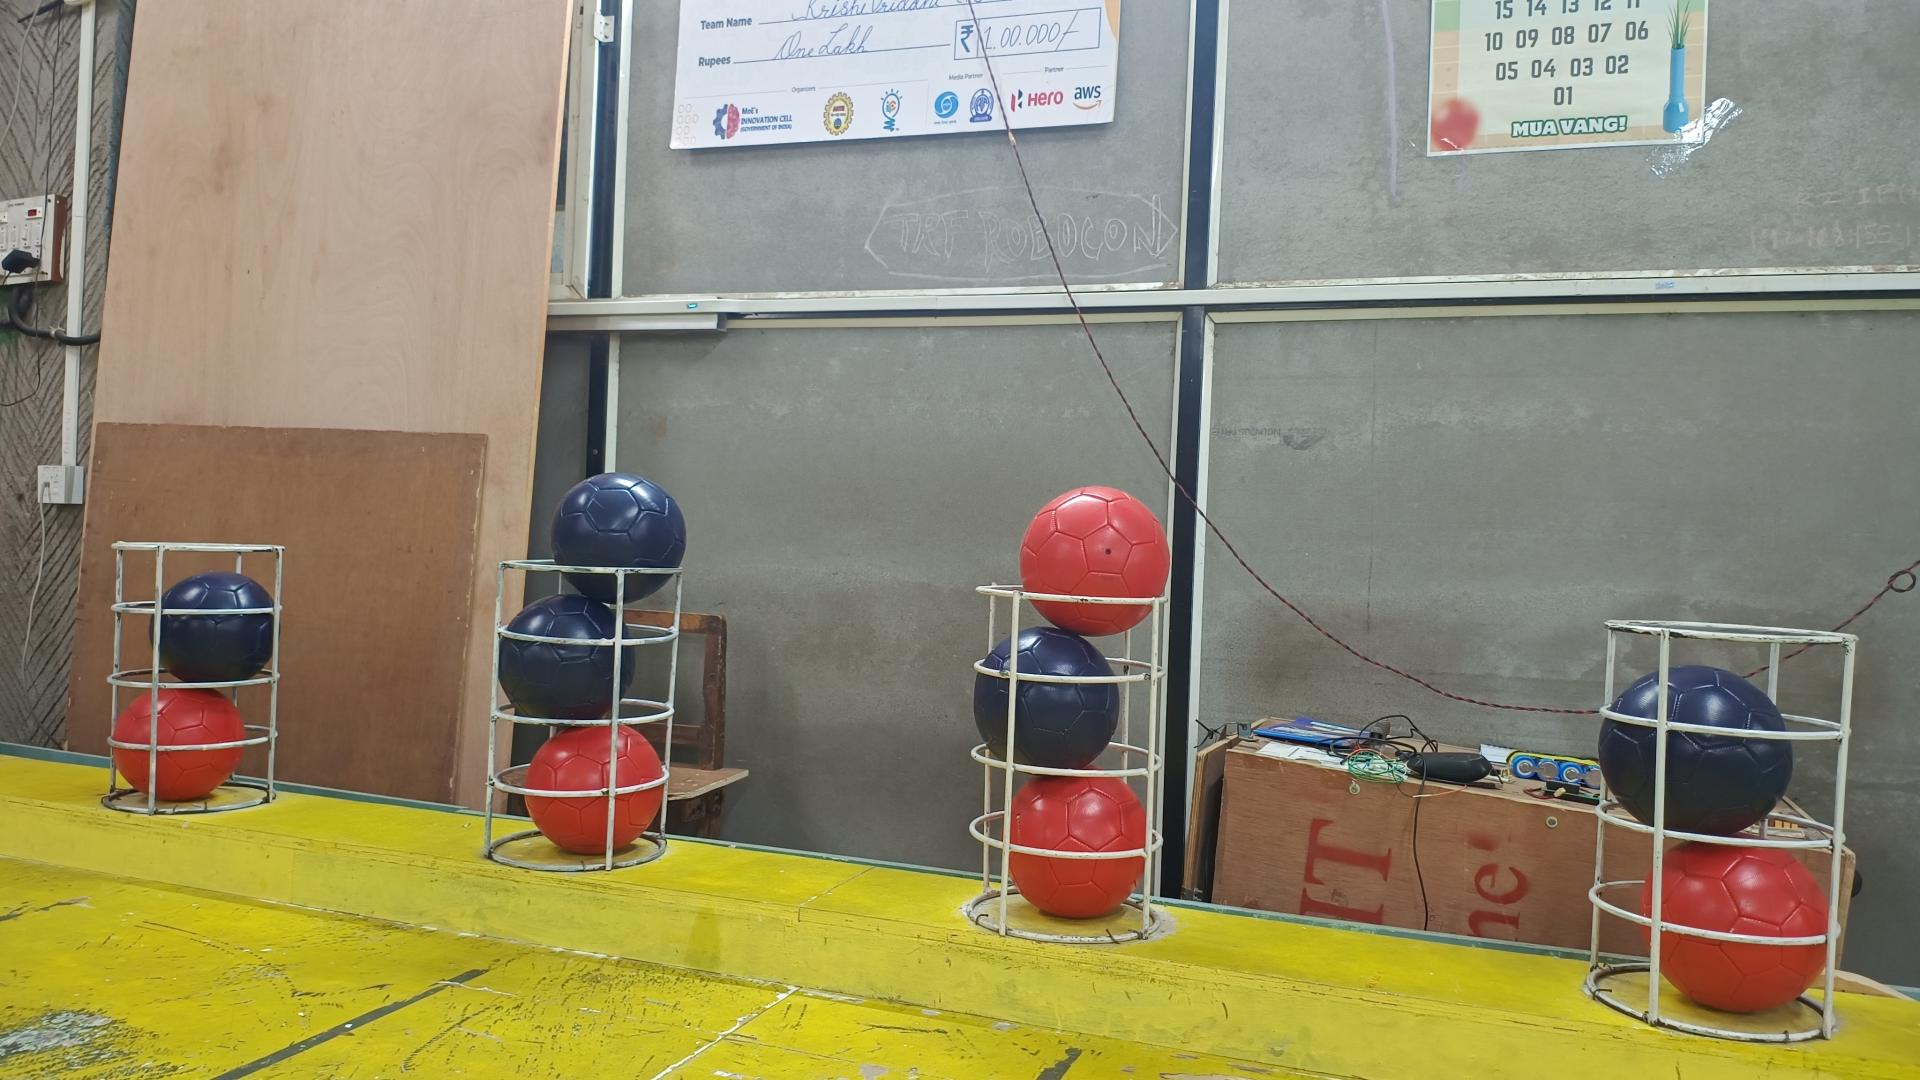dhoka: (1597, 662, 1792, 841), (976, 628, 1122, 770), (550, 471, 684, 607), (498, 593, 637, 717), (150, 574, 277, 683)
laale: (1639, 844, 1830, 1013), (1021, 489, 1170, 636), (1002, 778, 1149, 922), (525, 725, 663, 856), (112, 684, 244, 800)
